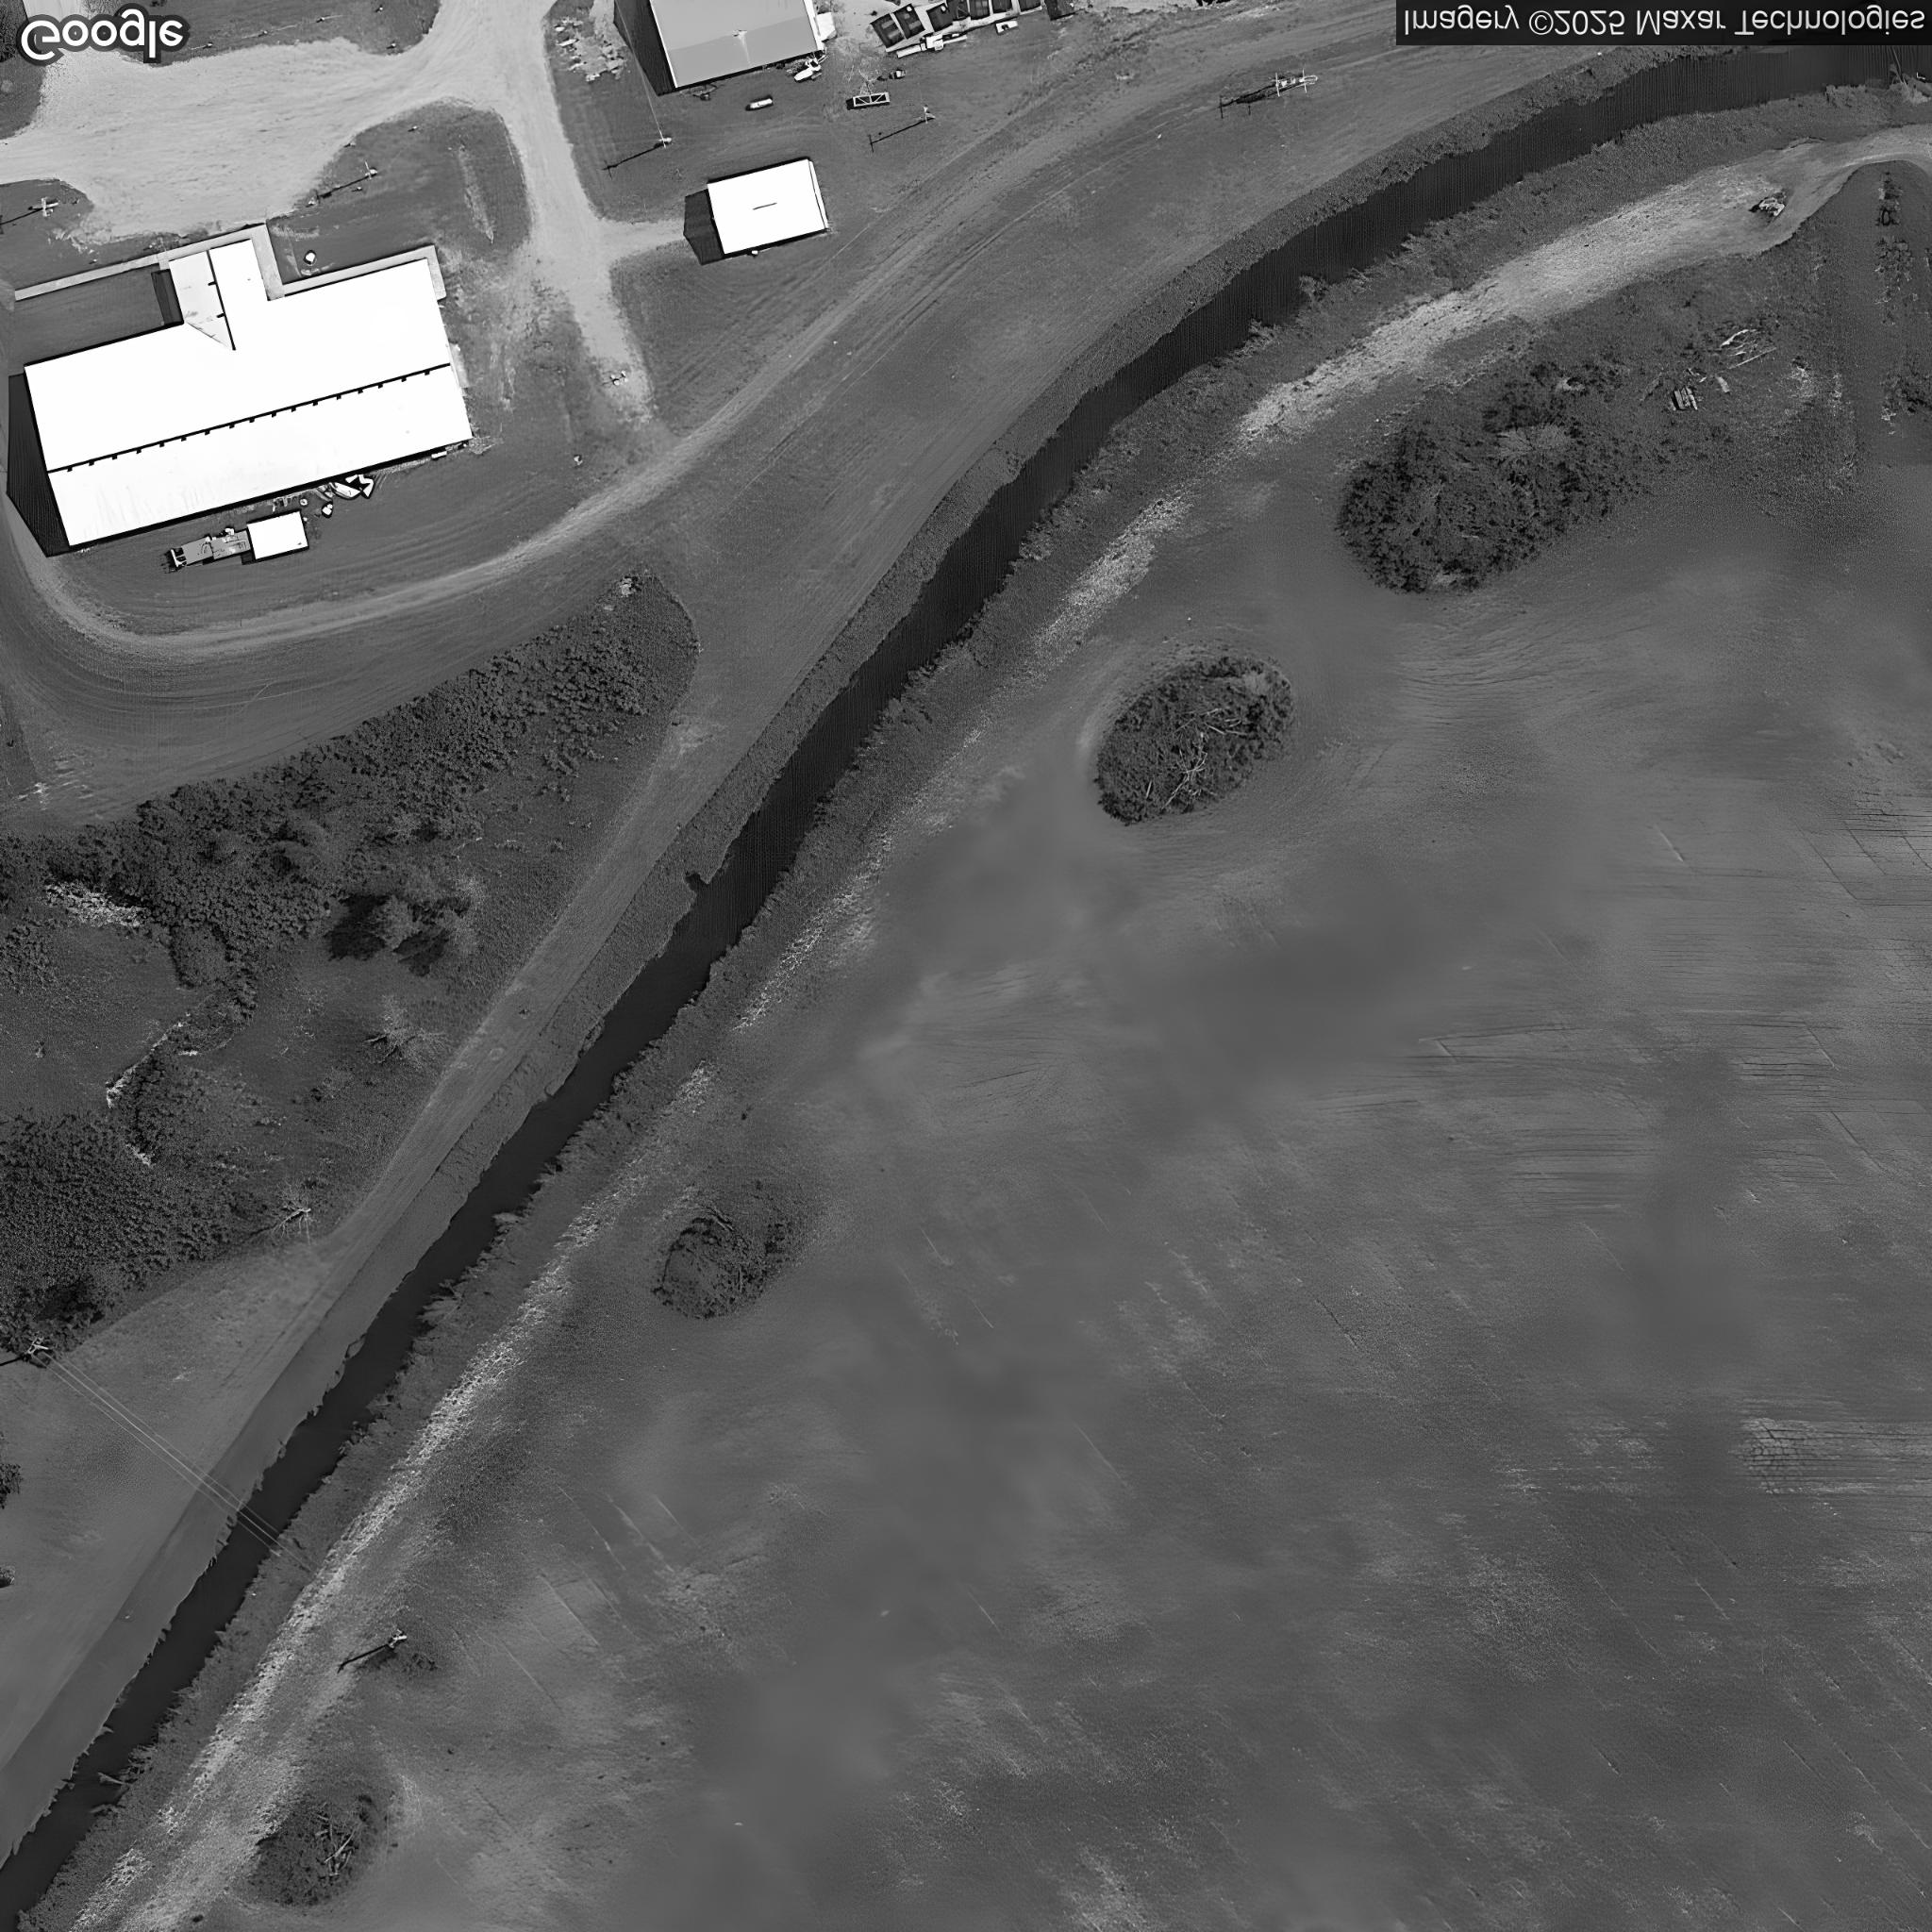Other: (23, 237, 474, 547), (646, 2, 824, 88), (708, 159, 830, 255)
